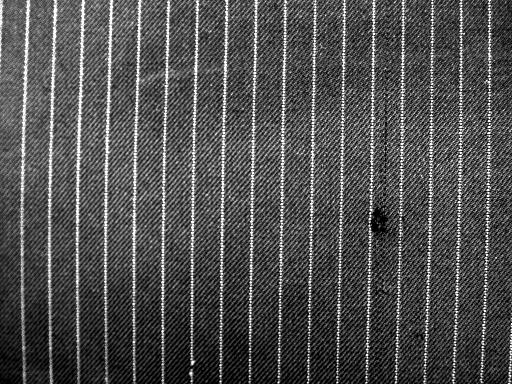fabric_hole: (354, 192, 412, 255)
